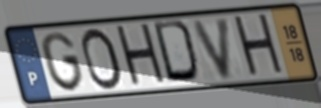D: (151, 18, 204, 86)
G: (39, 30, 86, 94)
H: (230, 11, 288, 82), (112, 21, 170, 91)
O: (79, 26, 126, 93)
V: (190, 15, 233, 83)
